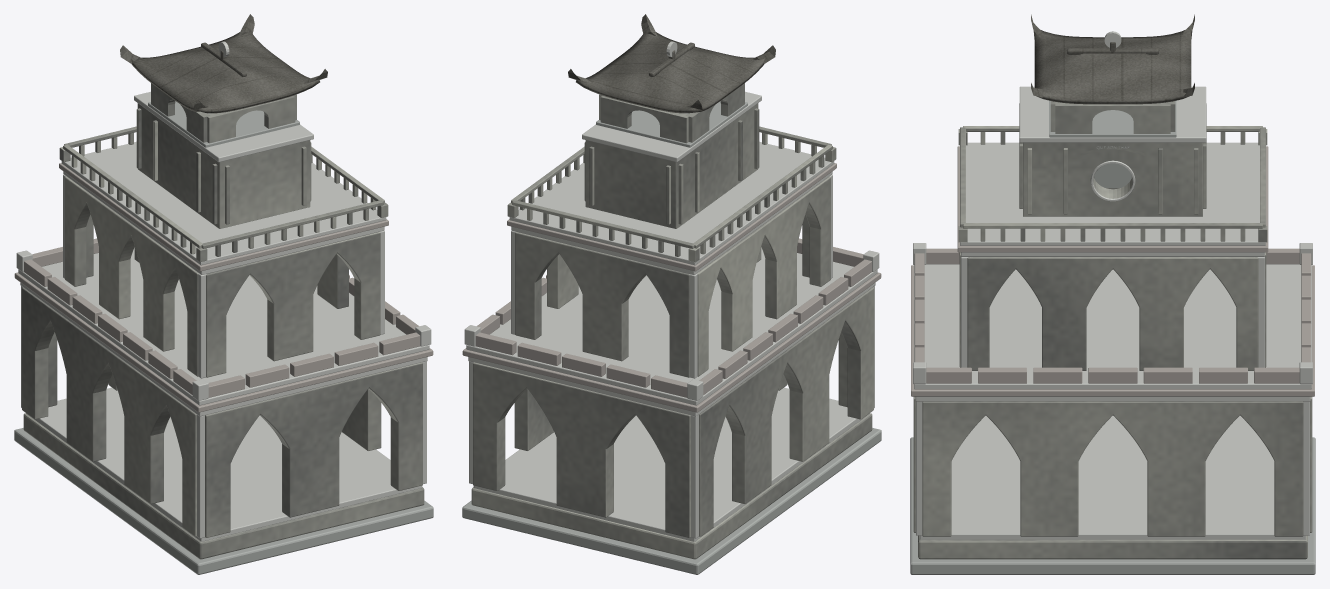
Rendered from thap-rua.glb.
3 renders of one model, left to right at view 1: azimuth 30°, elevation 25°; view 2: azimuth 150°, elevation 25°; view 3: azimuth 270°, elevation 25°, orthographic. The views are drawn at different scales.
Visible parts, largest first — view 1: Weathered grey-ivory plaster, Aged limestone mouldings, Weathered terrace brick, Old slate-grey roof tiles, Darkened stone in recesses; view 2: Weathered grey-ivory plaster, Aged limestone mouldings, Weathered terrace brick, Old slate-grey roof tiles, Darkened stone in recesses; view 3: Weathered grey-ivory plaster, Aged limestone mouldings, Weathered terrace brick, Old slate-grey roof tiles, Darkened stone in recesses.
Boxes of the visible parts, box(x1,y1,x2,y2) form: Weathered grey-ivory plaster: box(22, 83, 424, 559); Aged limestone mouldings: box(16, 41, 431, 541); Weathered terrace brick: box(14, 163, 433, 412); Old slate-grey roof tiles: box(120, 14, 327, 113); Darkened stone in recesses: box(14, 101, 433, 574); Weathered grey-ivory plaster: box(471, 83, 873, 559); Aged limestone mouldings: box(464, 41, 879, 541); Weathered terrace brick: box(462, 163, 881, 412); Old slate-grey roof tiles: box(568, 14, 775, 113); Darkened stone in recesses: box(462, 101, 881, 574); Weathered grey-ivory plaster: box(913, 101, 1312, 559); Aged limestone mouldings: box(913, 31, 1312, 539); Weathered terrace brick: box(911, 146, 1314, 396); Old slate-grey roof tiles: box(1031, 14, 1194, 104); Darkened stone in recesses: box(910, 100, 1315, 574).
Bounding box in the file's own units: 4.94 × 8.73 × 6.68.
5 materials, 2 textured.
